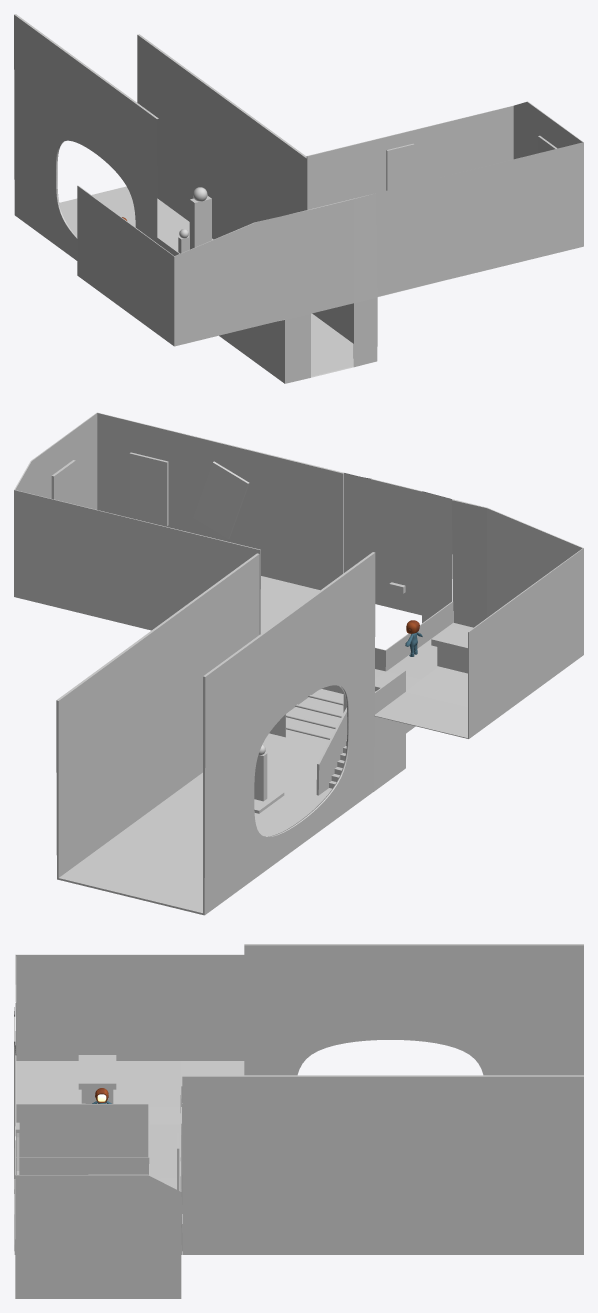
File: ESCENA-MUSEO.gltf
3 renders of one model, top to bottom at view 1: azimuth 30°, elevation 25°; view 2: azimuth 150°, elevation 25°; view 3: azimuth 270°, elevation 25°, orthographic. The views are drawn at different scales.
Visible parts, largest first — view 1: Plane, Plane.003, Cube.025, Cube.020; view 2: Plane, Plane.003, Cube.023, Cube.022, Cube.003, Cube.024, Plane.001; view 3: Plane.003, Plane, Plane.001.
Boxes of the visible parts, x1,y1,x2,y2 form: Plane: [77, 101, 583, 383]; Plane.003: [14, 14, 306, 260]; Cube.025: [386, 143, 414, 190]; Cube.020: [189, 195, 211, 249]; Plane: [14, 412, 583, 790]; Plane.003: [56, 552, 375, 915]; Cube.023: [129, 452, 168, 526]; Cube.022: [193, 461, 249, 539]; Cube.003: [316, 707, 347, 795]; Cube.024: [51, 460, 75, 504]; Plane.001: [431, 625, 469, 654]; Plane.003: [182, 944, 583, 1254]; Plane: [14, 954, 244, 1298]; Plane.001: [78, 1055, 116, 1089].
Bounding box in the file's own units: 9.09 × 4.28 × 9.22.
Materials: 3 (1 with a texture image).
